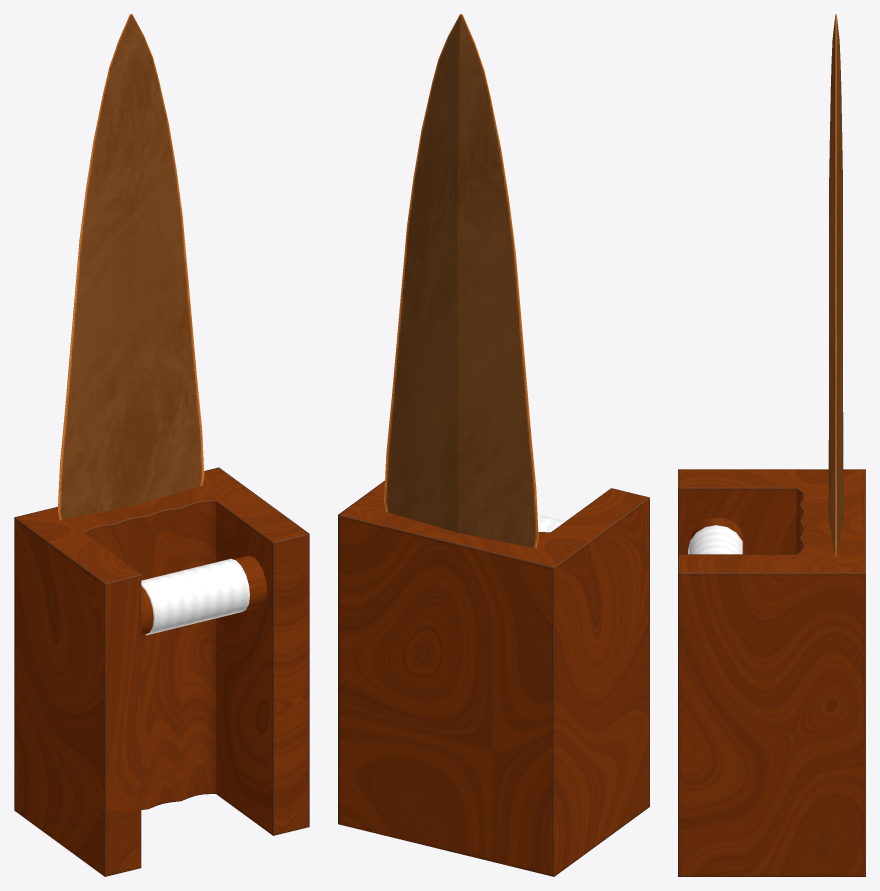
The model's file is Katar.fbx.
3 views of the same model, side by side, from view 1: azimuth 30°, elevation 25°; view 2: azimuth 150°, elevation 25°; view 3: azimuth 270°, elevation 25° (orthographic). The views are drawn at different scales.
Visible parts, largest first — view 1: Frame, Blade, Grip, Handle; view 2: Frame, Blade; view 3: Frame, Blade, Grip, Handle.
Part boxes in pixels (<box>): Frame: <box>14,467,309,876</box>; Blade: <box>58,14,204,520</box>; Grip: <box>141,558,249,635</box>; Handle: <box>141,555,266,635</box>; Frame: <box>338,480,649,876</box>; Blade: <box>384,14,538,548</box>; Frame: <box>678,469,865,876</box>; Blade: <box>828,14,843,556</box>; Grip: <box>688,525,742,554</box>; Handle: <box>691,517,745,554</box>.
Size of the model in its own units: 146 by 533 by 112.
Materials: 1 (1 with a texture image).
